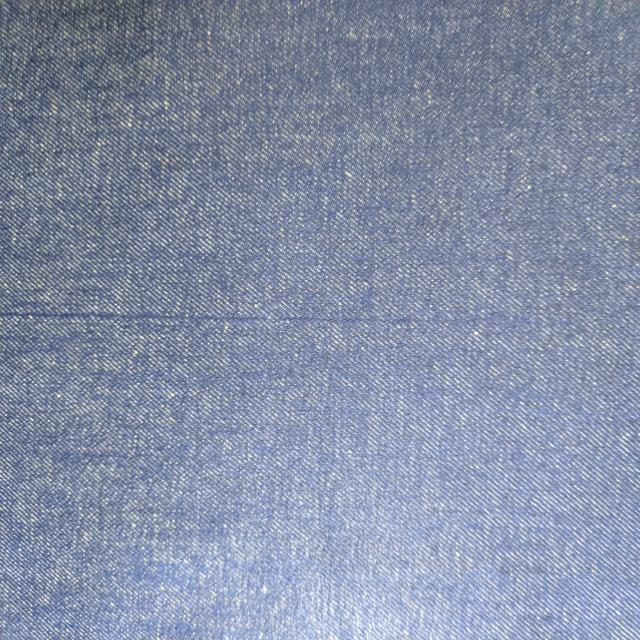Line: (0, 308, 515, 326)
